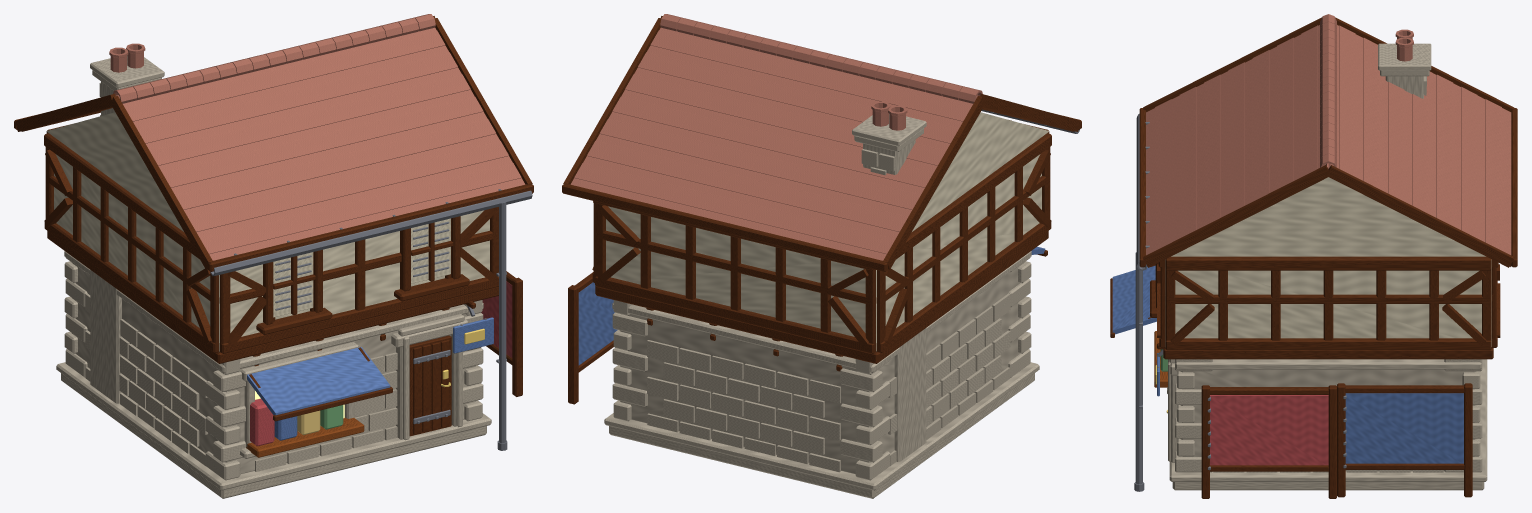
File: fantasy-mmo-city-and-townsfolk-tailor-shop-75717b5f__32734.glb
3 renders of one model, left to right at view 1: azimuth 30°, elevation 25°; view 2: azimuth 150°, elevation 25°; view 3: azimuth 270°, elevation 25°, orthographic. The views are drawn at different scales.
Visible parts, largest first — view 1: tailor-shop, awning/blue, door/timber, sign/blue, awning/timber; view 2: tailor-shop; view 3: tailor-shop, awning/blue.
Part boxes in pixels (x1,y1,x2,y2): tailor-shop: (14, 14, 533, 498); awning/blue: (247, 347, 390, 415); door/timber: (409, 335, 451, 436); sign/blue: (453, 317, 493, 353); awning/timber: (249, 347, 392, 421); tailor-shop: (562, 14, 1081, 498); tailor-shop: (1134, 14, 1517, 498); awning/blue: (1112, 265, 1156, 334).
Bounding box in the file's own units: 9.05 × 8.9 × 9.62.
12 materials, 7 textured.
